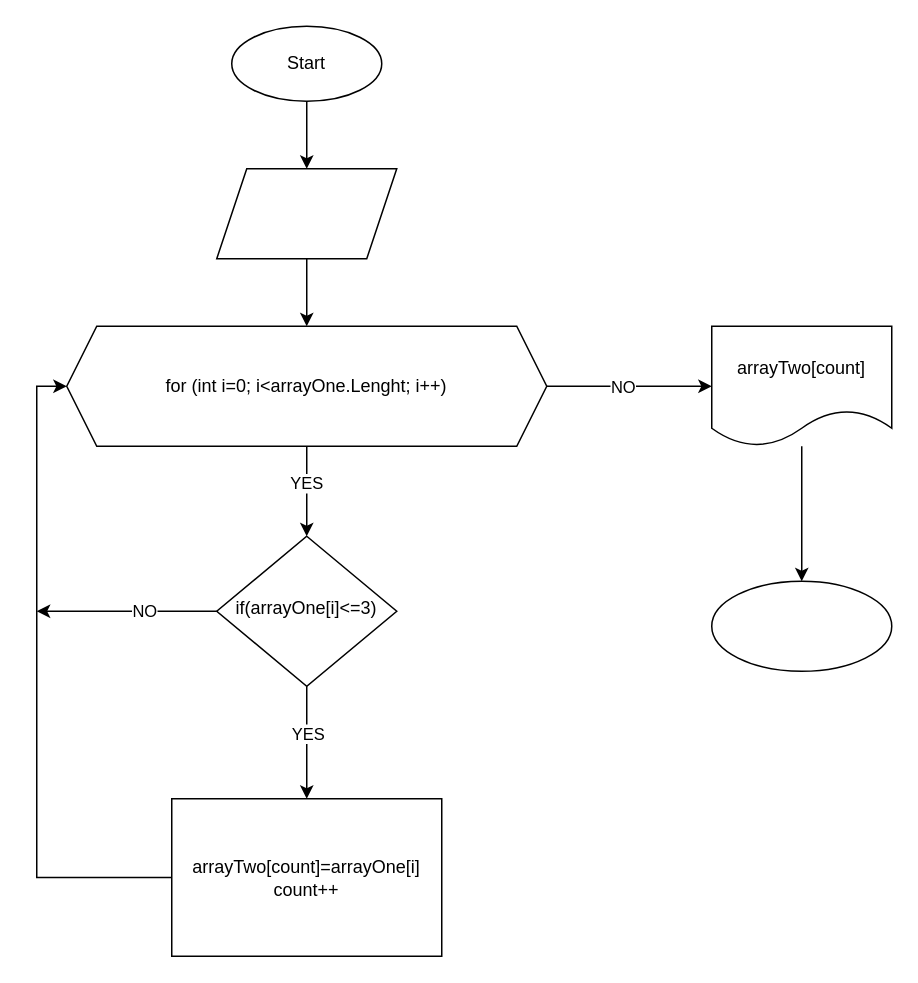
Some shapes in this 918 by 983 pixel diagram are drawn without their labels. Each missing label, with the centre of its shape:
"End" goes at (801,625).
"int N=int.Parse string[N]arrayOne string[]arrayTwo int count=0" goes at (306,213).
